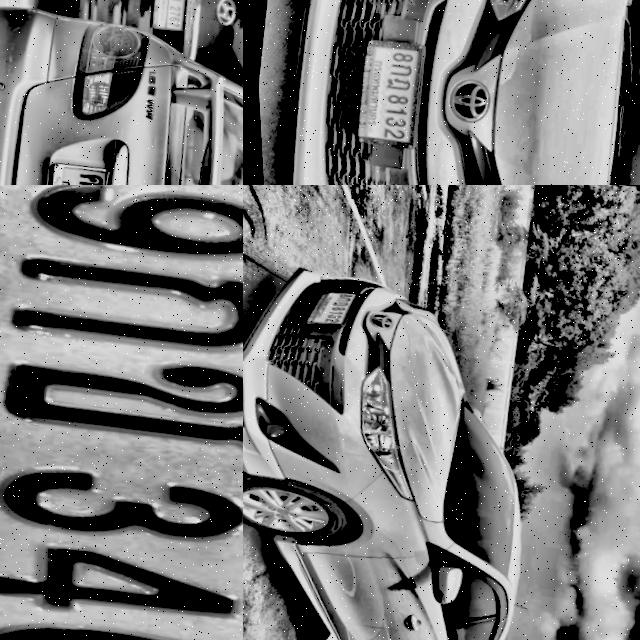license-plate: (0, 185, 243, 640), (337, 33, 434, 155), (31, 161, 115, 185), (303, 292, 356, 328), (147, 0, 189, 38)
